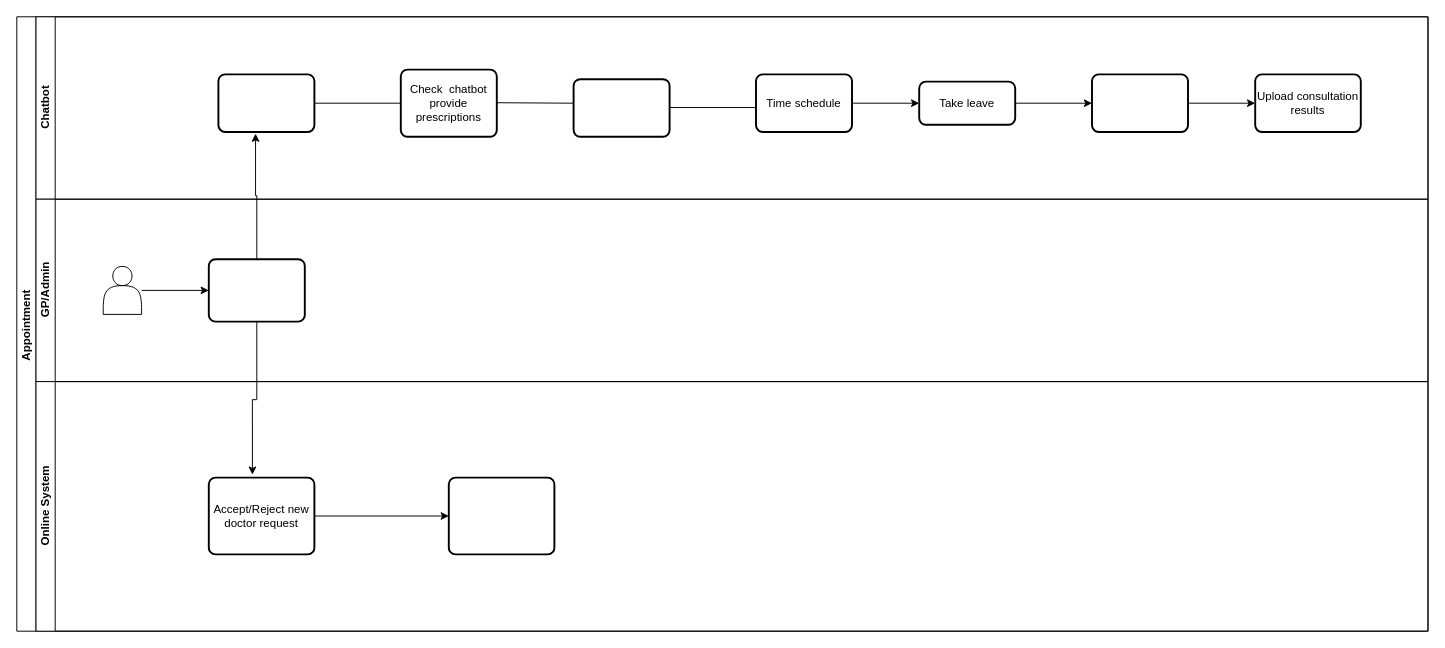
Some shapes in this 1445 by 648 pixel diagram are drawn without their labels. Here are the shapes that lost their labels. From the top down, the centre of each, then its label:
point (266, 102): Search medical content
point (621, 107): Add Charmer Chat with patients
point (1139, 102): View appointment information
point (256, 290): Login Account
point (501, 515): Manage doctor and patient Scheduling doctors
